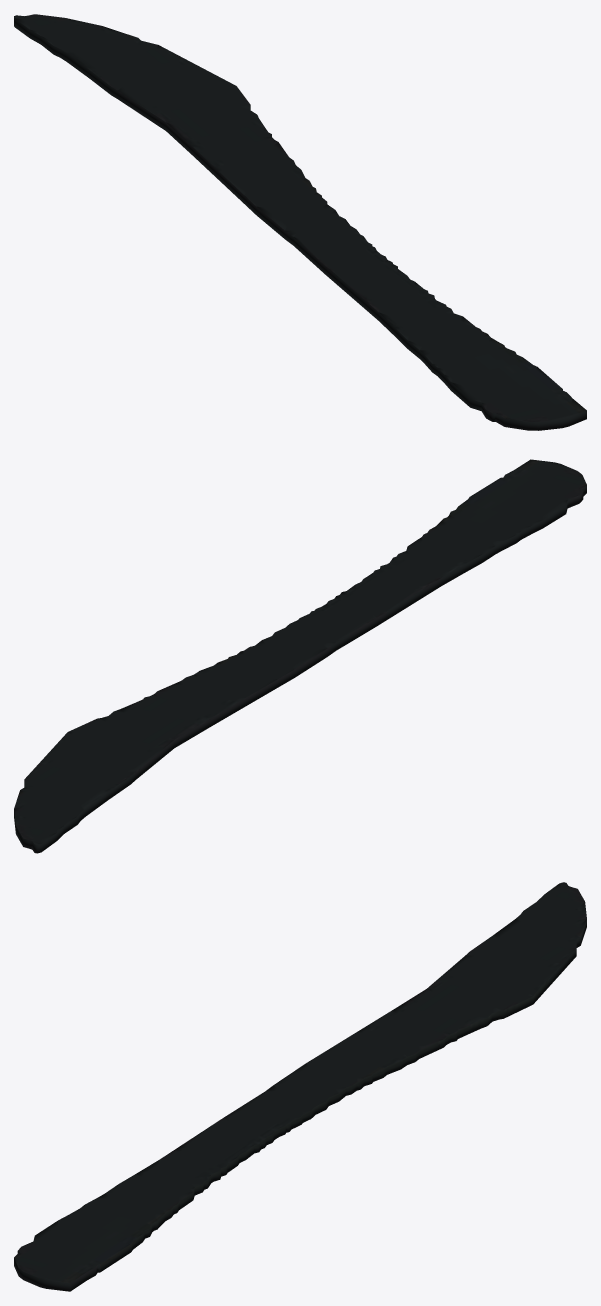
The picture shows the model from 3 angles, top to bottom: view 1: azimuth 30°, elevation 25°; view 2: azimuth 150°, elevation 25°; view 3: azimuth 330°, elevation 25°; orthographic projection. The views are drawn at different scales.
Parts seen in each view (by area): view 1: body; view 2: body; view 3: body.
Boxes of the visible parts, x1,y1,x2,y2 form: body: (14, 14, 586, 430); body: (14, 459, 586, 853); body: (14, 882, 586, 1291).
Size of the model in its own units: 0.0345 by 0.00396 by 0.2342.
1 material, 1 textured.
